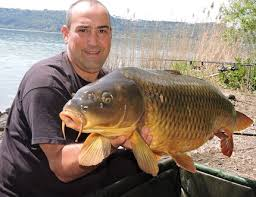carp: (59, 66, 254, 178)
